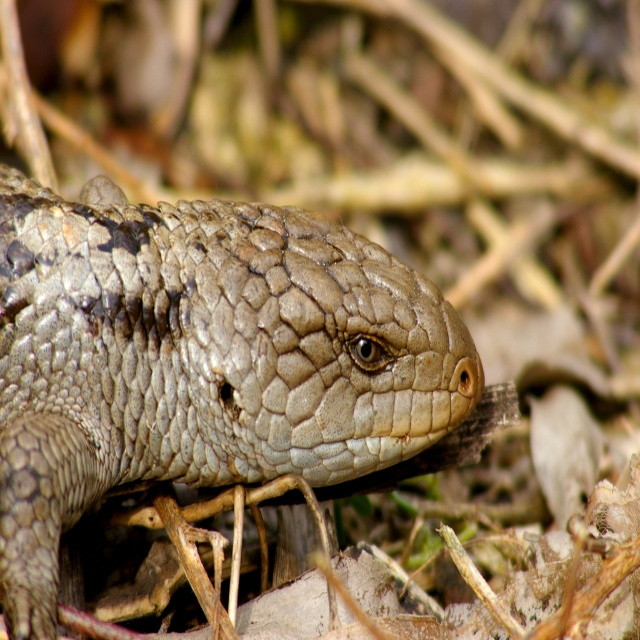Lizard: (0, 162, 485, 640)
